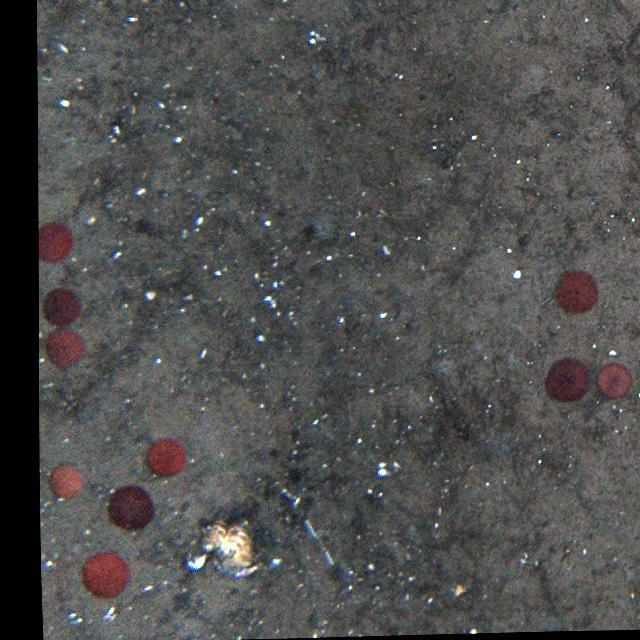whelk: (206, 519, 256, 572)
